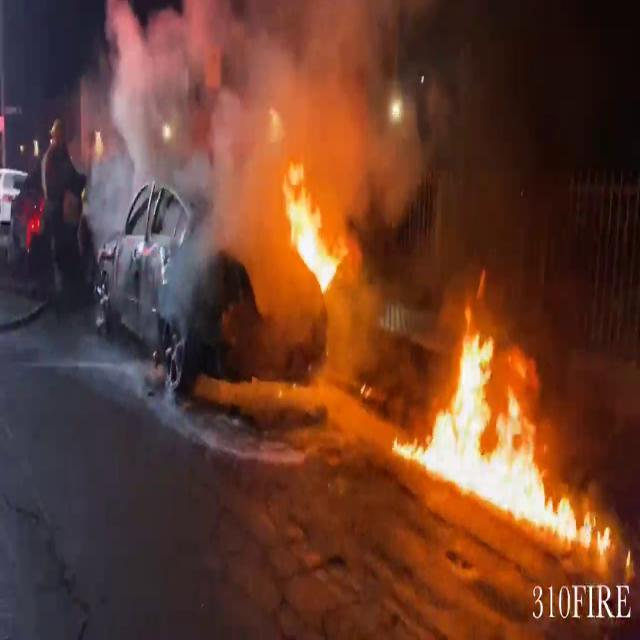Fire: (398, 283, 604, 549), (276, 156, 351, 302)
Smoke: (86, 0, 398, 308), (86, 0, 304, 310)
